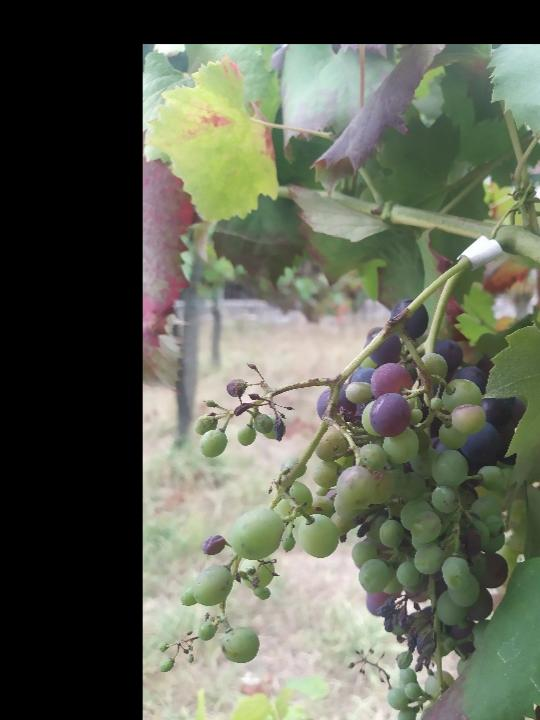grape: (157, 295, 521, 720)
